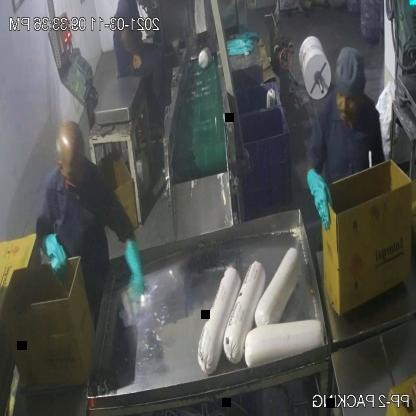glove: (298, 165, 337, 229), (115, 232, 147, 304), (34, 230, 66, 288)
no_glove: (116, 26, 143, 74)
